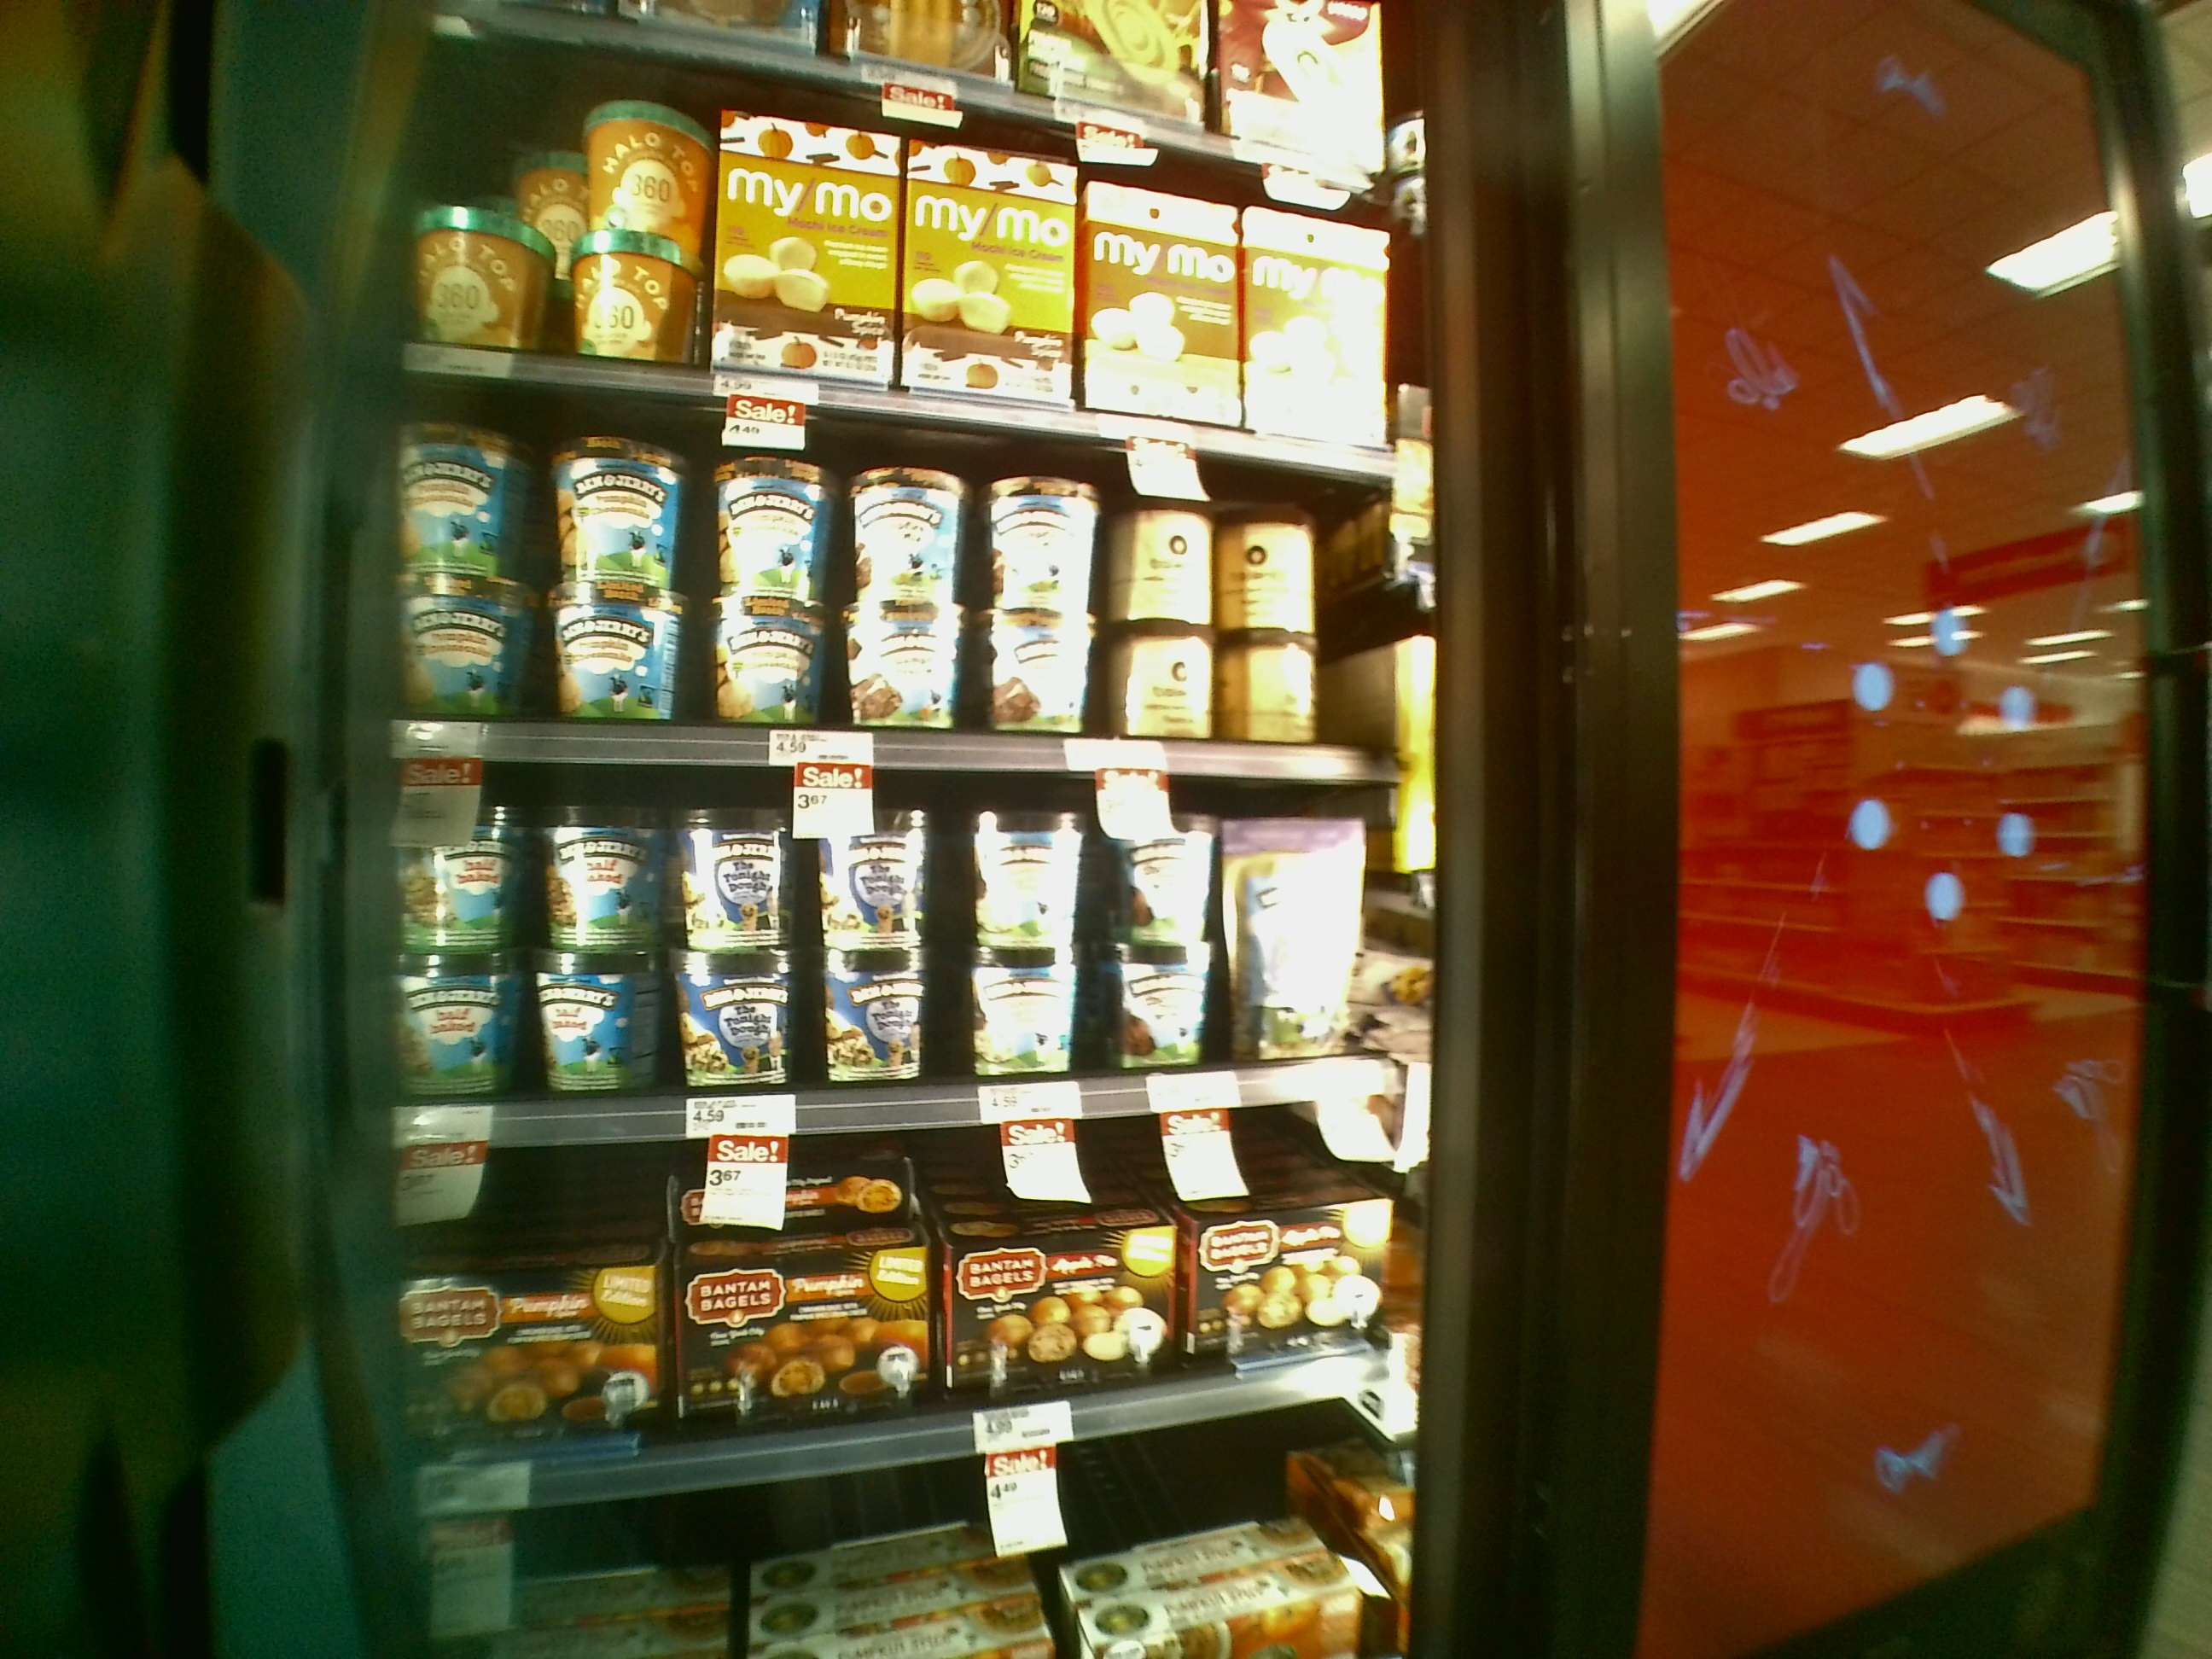shelf: (387, 362, 1460, 781), (361, 727, 1411, 1134), (327, 1086, 1432, 1471)
